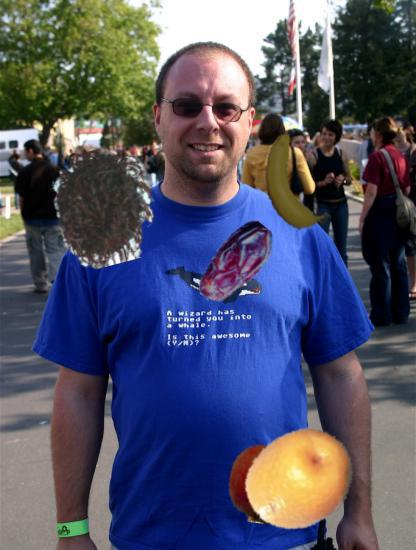Banana: (247, 131, 346, 230)
Dates: (190, 217, 283, 310)
Kumquats: (244, 423, 357, 536)
Peach: (228, 446, 307, 525)
Rambutan: (47, 149, 164, 266)
